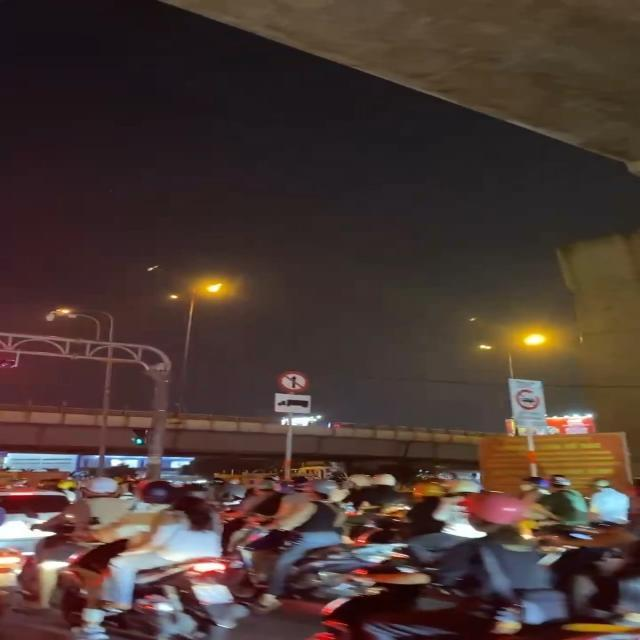136-cam-di-thang: (276, 371, 308, 393)
